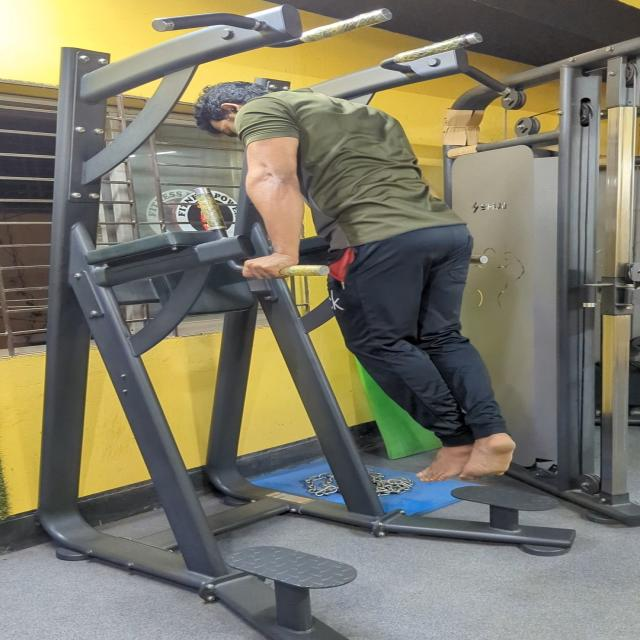Normal_Dips: (120, 32, 590, 488)
